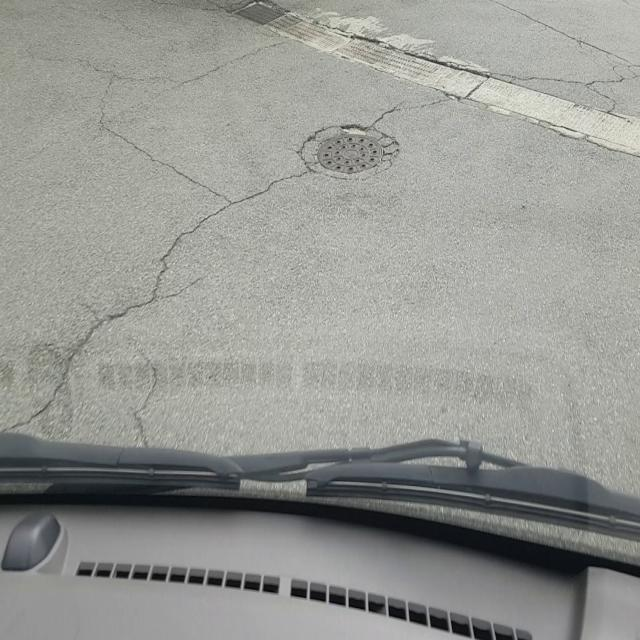Pothole: (295, 119, 403, 181)
